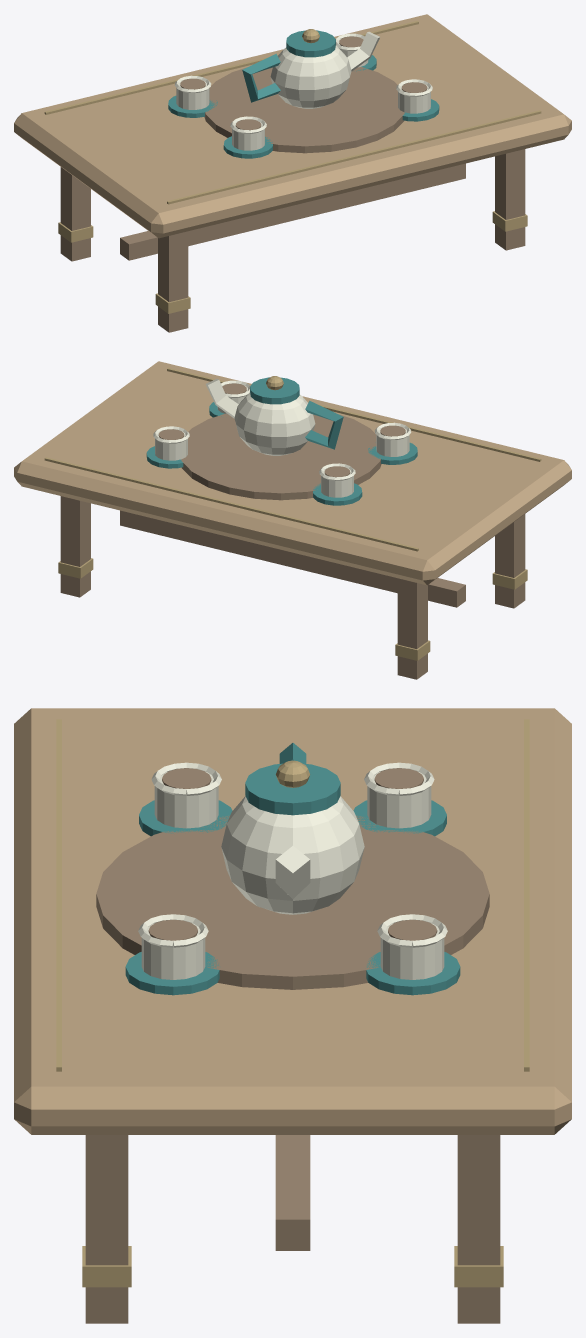
Rendered from common_future-component.glb.
The picture shows the model from 3 angles, top to bottom: view 1: azimuth 30°, elevation 25°; view 2: azimuth 150°, elevation 25°; view 3: azimuth 270°, elevation 25°; orthographic projection. The views are drawn at different scales.
Parts seen in each view (by area): view 1: runtime_Cedar cut end, runtime_Rain washed cedar, runtime_Ivory tea porcelain, runtime_Weathered brass, runtime_Deep teal ceramic; view 2: runtime_Cedar cut end, runtime_Rain washed cedar, runtime_Ivory tea porcelain, runtime_Weathered brass, runtime_Deep teal ceramic; view 3: runtime_Cedar cut end, runtime_Rain washed cedar, runtime_Ivory tea porcelain, runtime_Deep teal ceramic, runtime_Weathered brass.
Part boxes in pixels (<box>): runtime_Cedar cut end: <box>14,14,571,238</box>; runtime_Rain washed cedar: <box>60,36,525,332</box>; runtime_Ivory tea porcelain: <box>174,31,432,150</box>; runtime_Weathered brass: <box>44,21,541,313</box>; runtime_Deep teal ceramic: <box>168,30,439,158</box>; runtime_Cedar cut end: <box>14,361,571,585</box>; runtime_Rain washed cedar: <box>60,383,525,679</box>; runtime_Ivory tea porcelain: <box>153,378,411,497</box>; runtime_Weathered brass: <box>44,368,541,660</box>; runtime_Deep teal ceramic: <box>146,377,417,505</box>; runtime_Cedar cut end: <box>14,708,571,1134</box>; runtime_Rain washed cedar: <box>85,768,500,1323</box>; runtime_Ivory tea porcelain: <box>138,762,447,979</box>; runtime_Deep teal ceramic: <box>125,743,460,995</box>; runtime_Weathered brass: <box>56,719,529,1287</box>.
Size of the model in its own units: 3.5 by 1.71 by 2.1.
